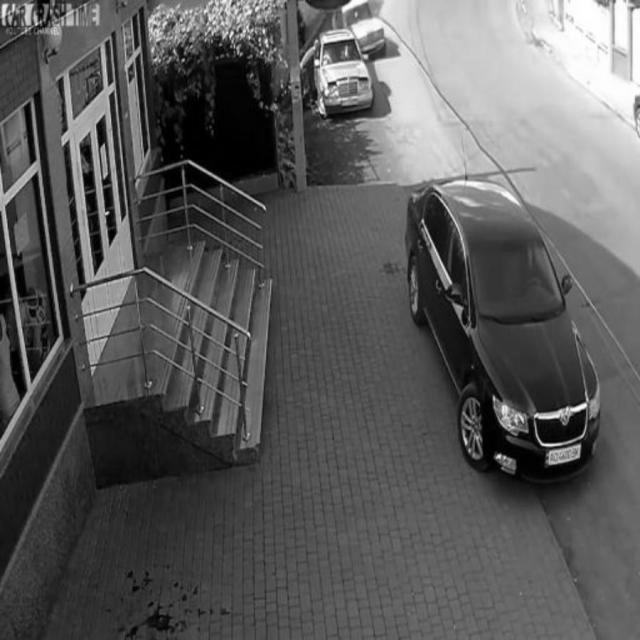accident: (317, 7, 388, 120)
vehicle: (405, 187, 595, 479)
